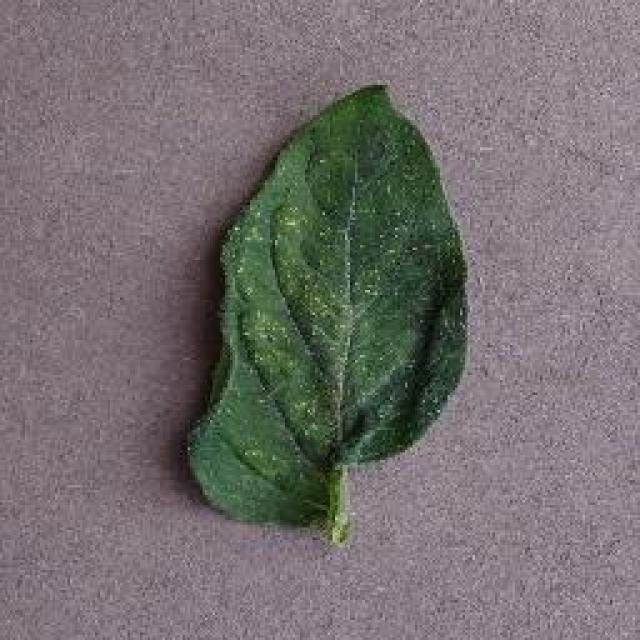Tomato spider mites leaf: (182, 77, 470, 530)
